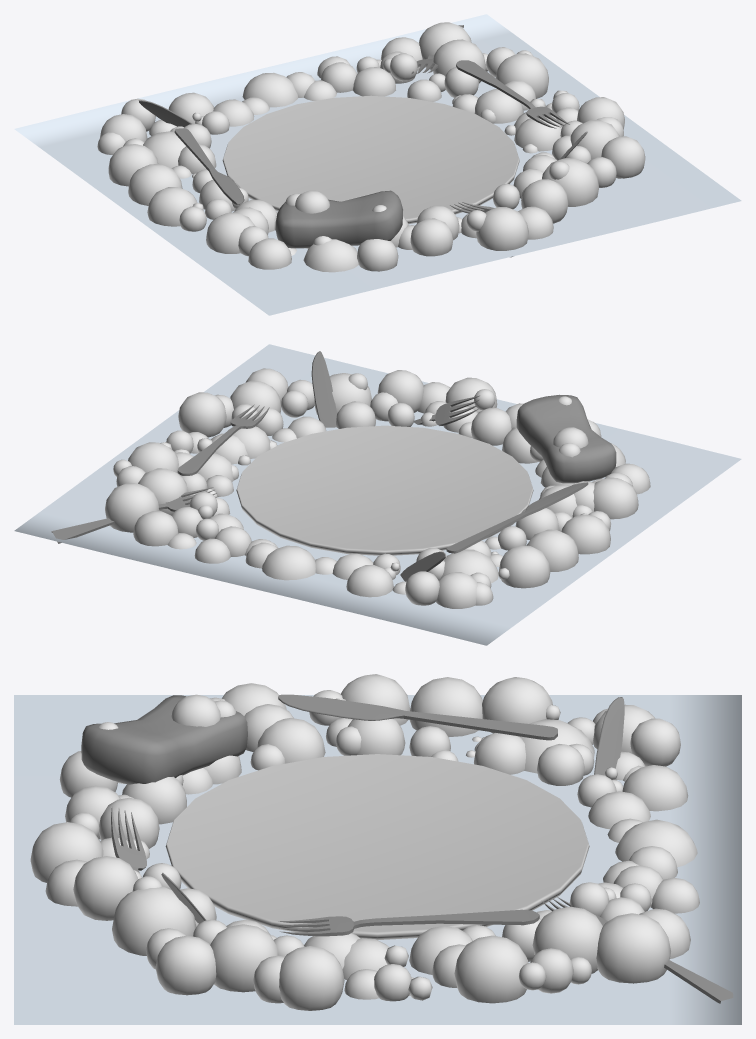
Rendered from TellerMap_CoreMapAssets_toMaya2.fbx.
3 renders of one model, top to bottom at view 1: azimuth 30°, elevation 25°; view 2: azimuth 150°, elevation 25°; view 3: azimuth 270°, elevation 25°, orthographic. The views are drawn at different scales.
Parts seen in each view (by area): view 1: Combined_Bubbles, WaterPlane.001, Map_Floor, polySurface1; view 2: Combined_Bubbles, WaterPlane.001, Map_Floor, polySurface1; view 3: Combined_Bubbles, WaterPlane.001, Map_Floor, polySurface1.
Part boxes in pixels (x1,y1,x2,y2): Combined_Bubbles: [97, 22, 645, 272]; WaterPlane.001: [14, 14, 741, 315]; Map_Floor: [222, 95, 519, 224]; polySurface1: [138, 25, 587, 248]; Combined_Bubbles: [105, 368, 650, 608]; WaterPlane.001: [14, 344, 741, 645]; Map_Floor: [236, 425, 533, 555]; polySurface1: [51, 351, 616, 581]; Combined_Bubbles: [30, 674, 699, 1010]; WaterPlane.001: [14, 695, 741, 1024]; Map_Floor: [165, 754, 589, 939]; polySurface1: [81, 694, 733, 1003].
Size of the model in its own units: 8714 by 1183 by 8148.
